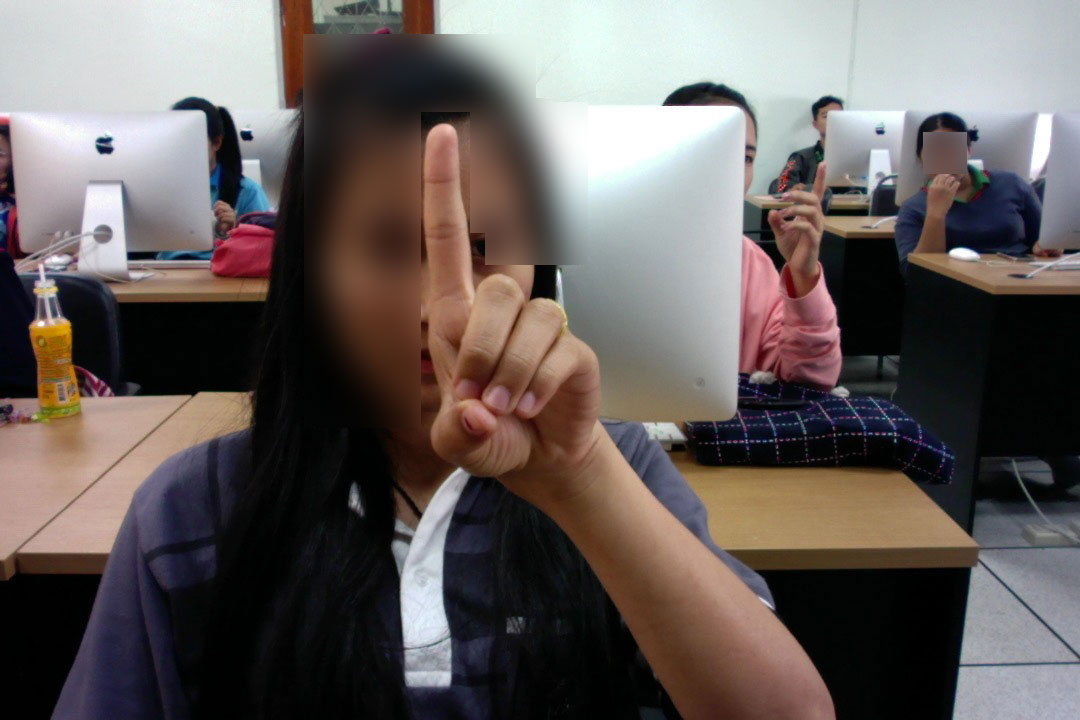dor: (416, 112, 623, 514)
